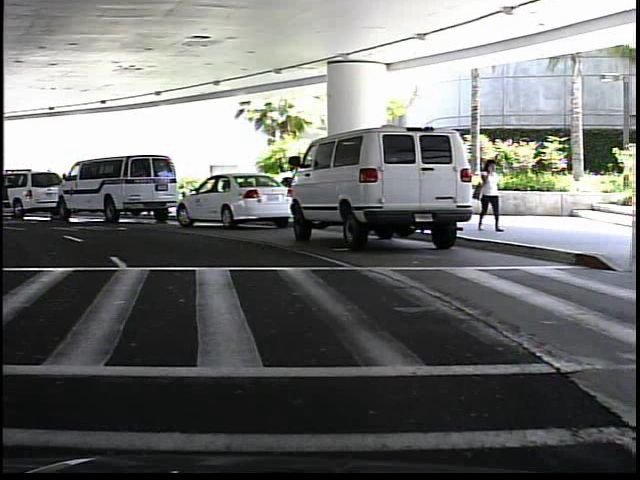person: (474, 153, 503, 232)
